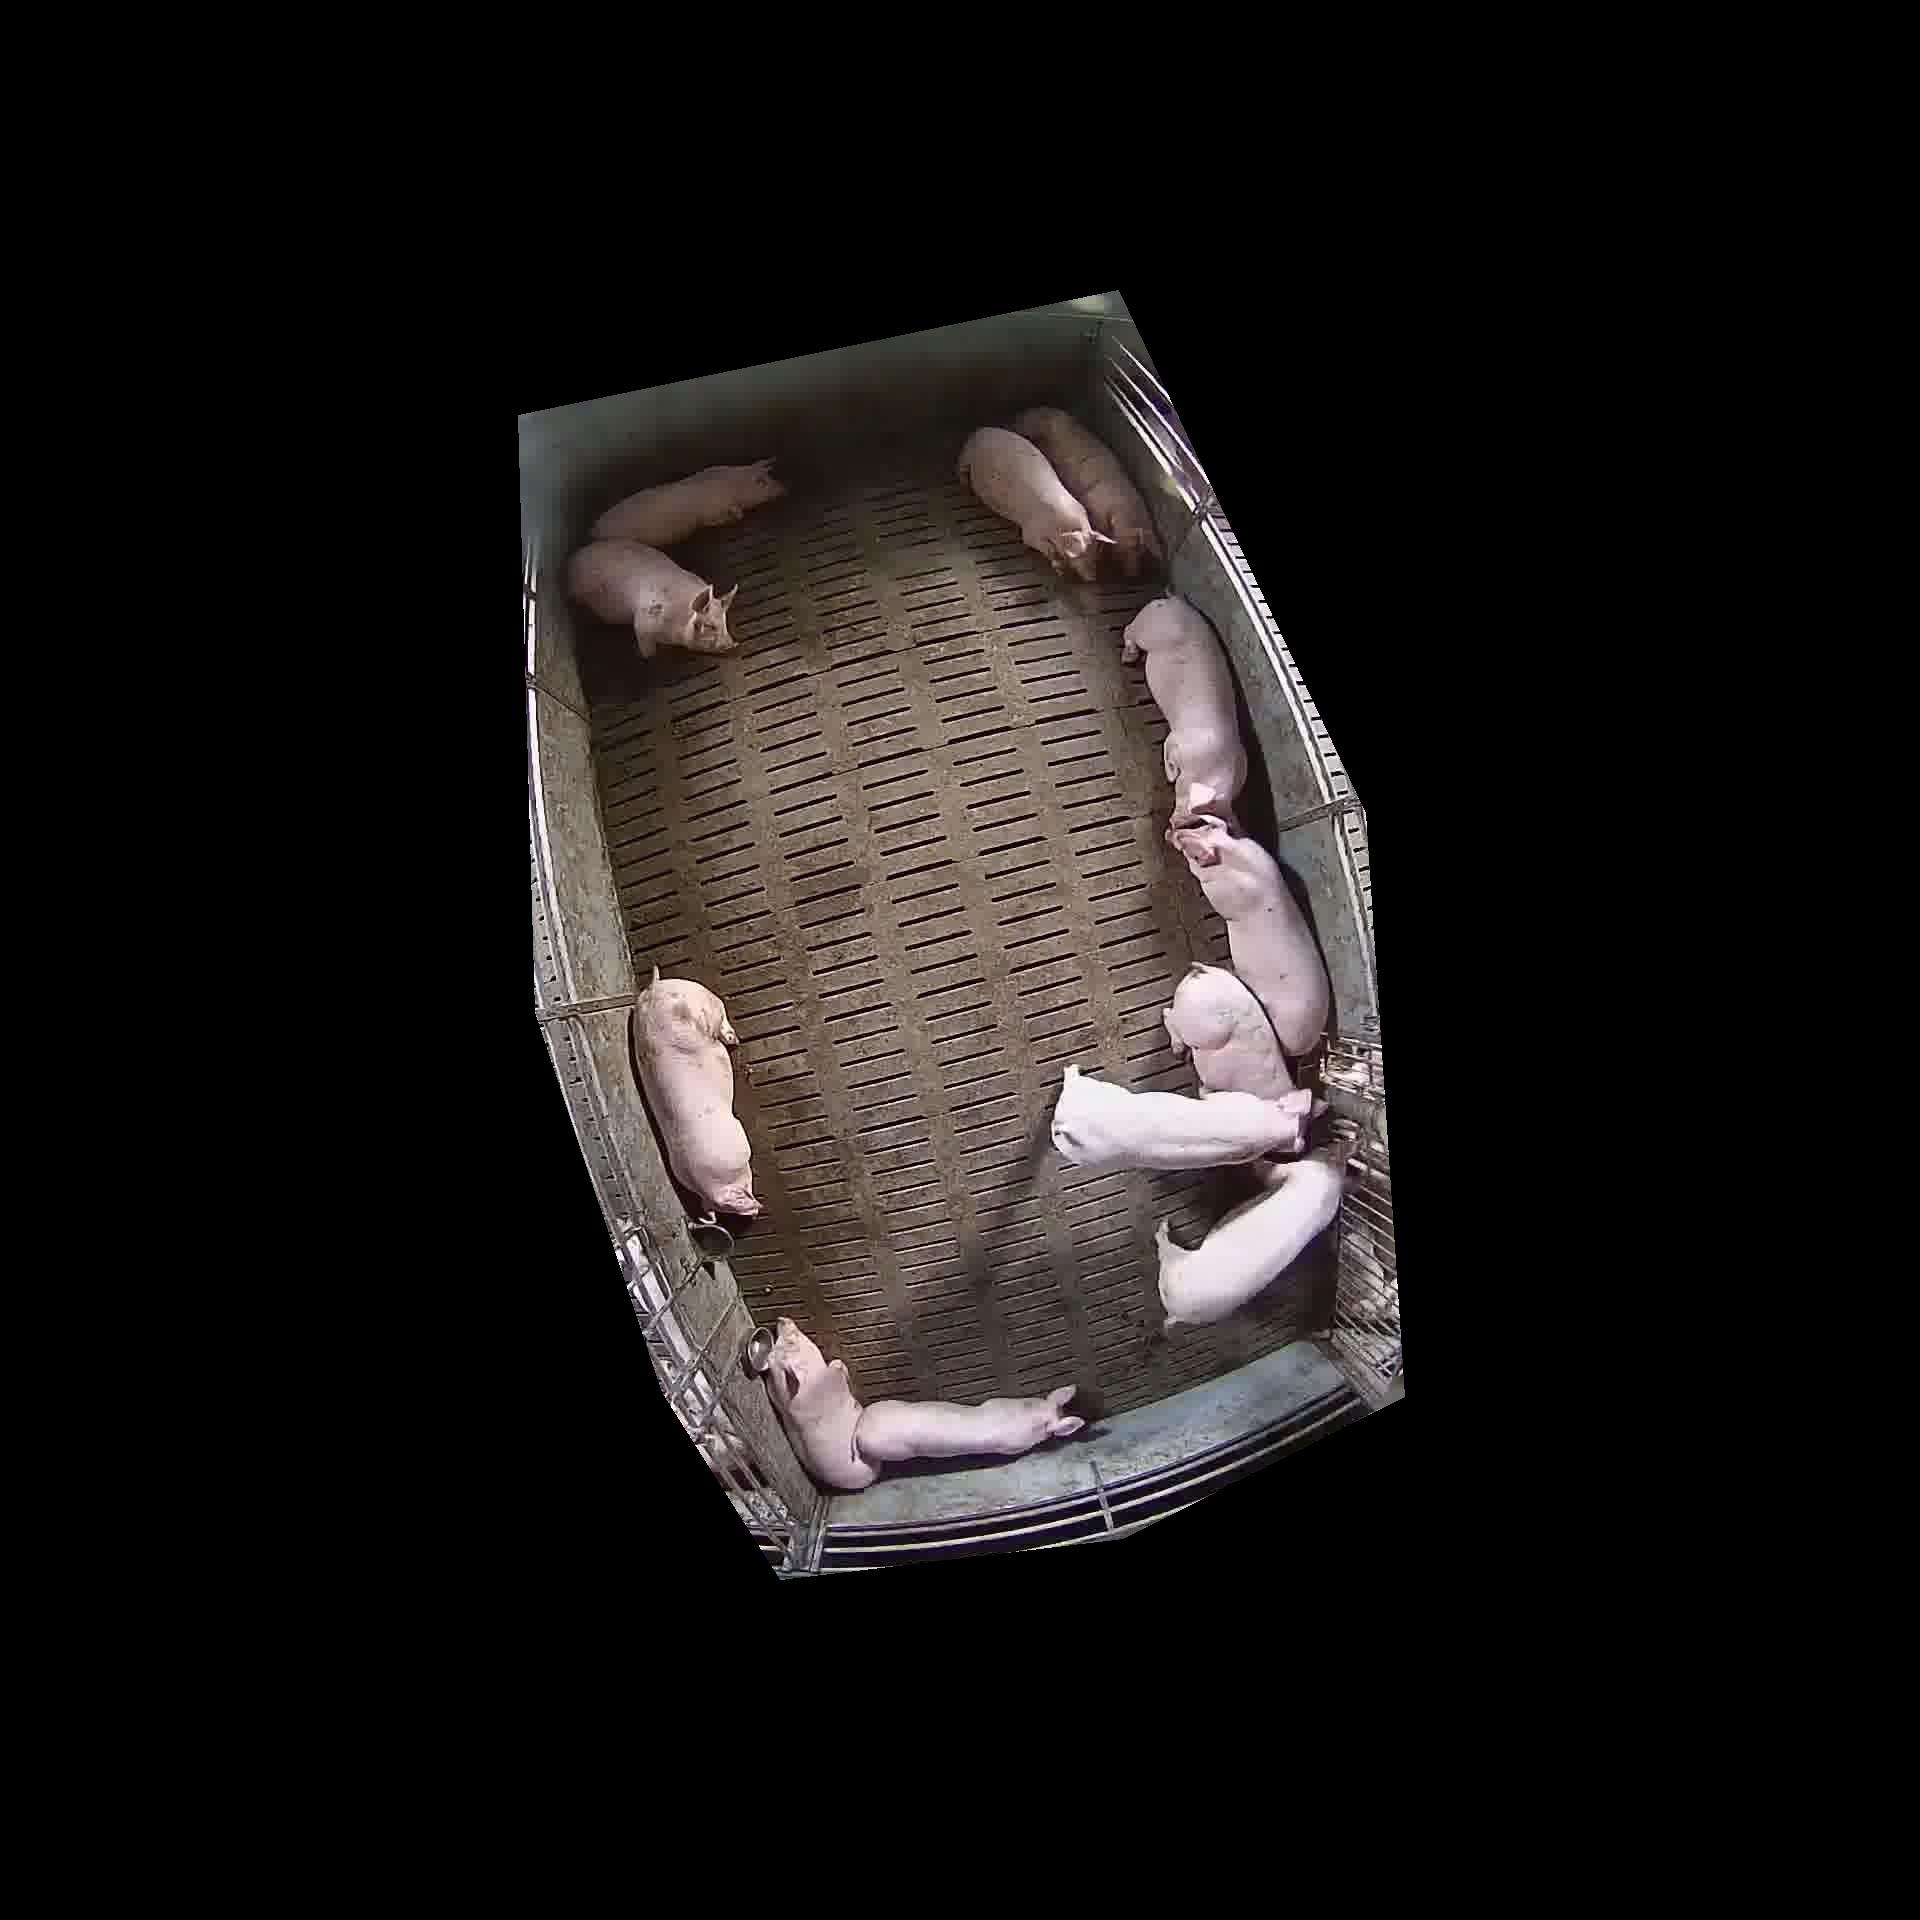pig: (1167, 816, 1329, 1055), (1155, 1159, 1342, 1326), (635, 978, 760, 1215), (1124, 594, 1247, 826), (1051, 1067, 1312, 1169), (1016, 406, 1160, 573), (956, 427, 1108, 580), (568, 540, 735, 656), (768, 1320, 879, 1489), (855, 1384, 1085, 1461), (1160, 964, 1289, 1099), (591, 461, 784, 547)
